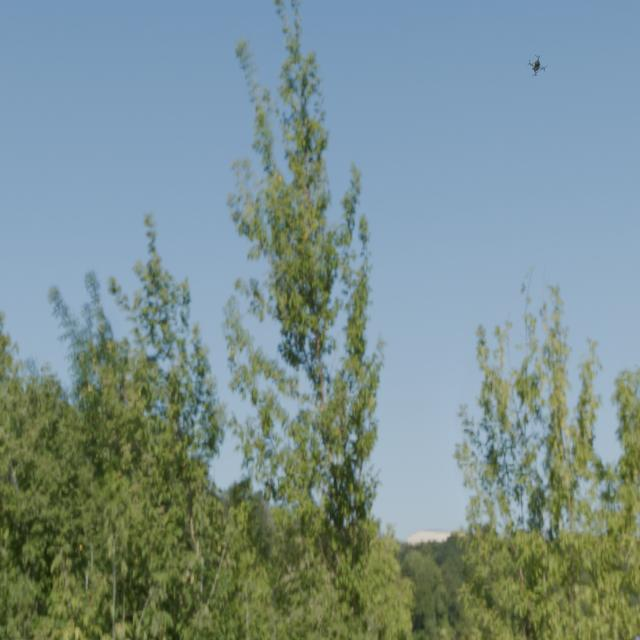drone: (527, 55, 547, 76)
